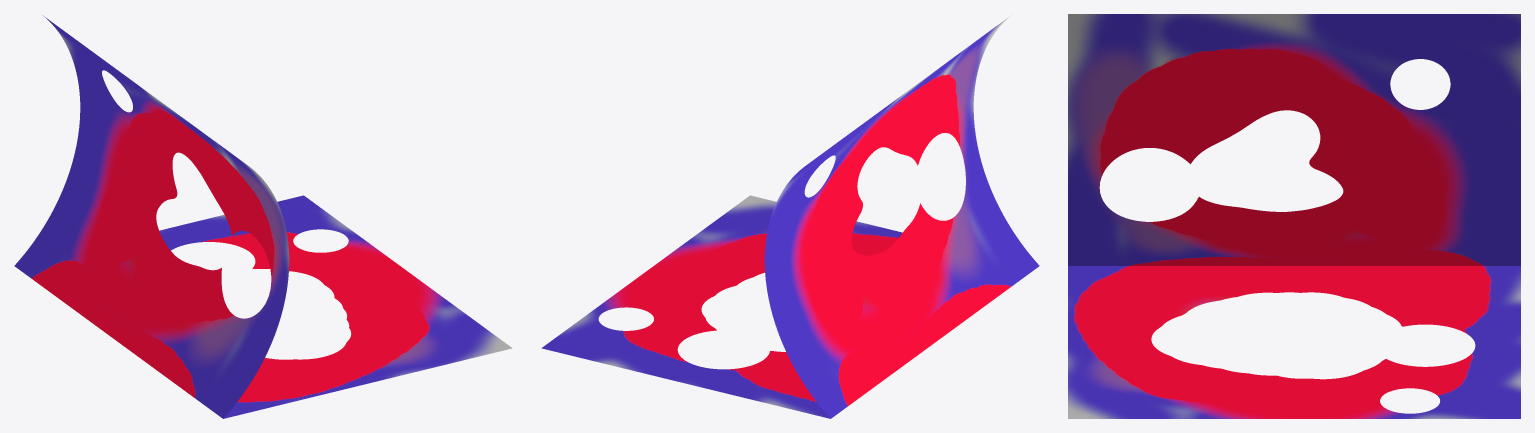
The model's file is v5testherbarium.fbx.
The picture shows the model from 3 angles, left to right: view 1: azimuth 30°, elevation 25°; view 2: azimuth 150°, elevation 25°; view 3: azimuth 270°, elevation 25°; orthographic projection. The views are drawn at different scales.
Parts seen in each view (by area): view 1: Planeup, Planlowplane; view 2: Planeup, Planlowplane; view 3: Planeup, Planlowplane.
Part boxes in pixels (x1,y1,x2,y2): Planeup: (14, 15, 289, 418); Planlowplane: (159, 195, 512, 418); Planeup: (764, 15, 1039, 418); Planlowplane: (541, 195, 902, 418); Planeup: (1068, 14, 1520, 265); Planlowplane: (1068, 266, 1520, 418).
Bounding box in the file's own units: 160 × 130 × 200.
Materials: 1 (1 with a texture image).
